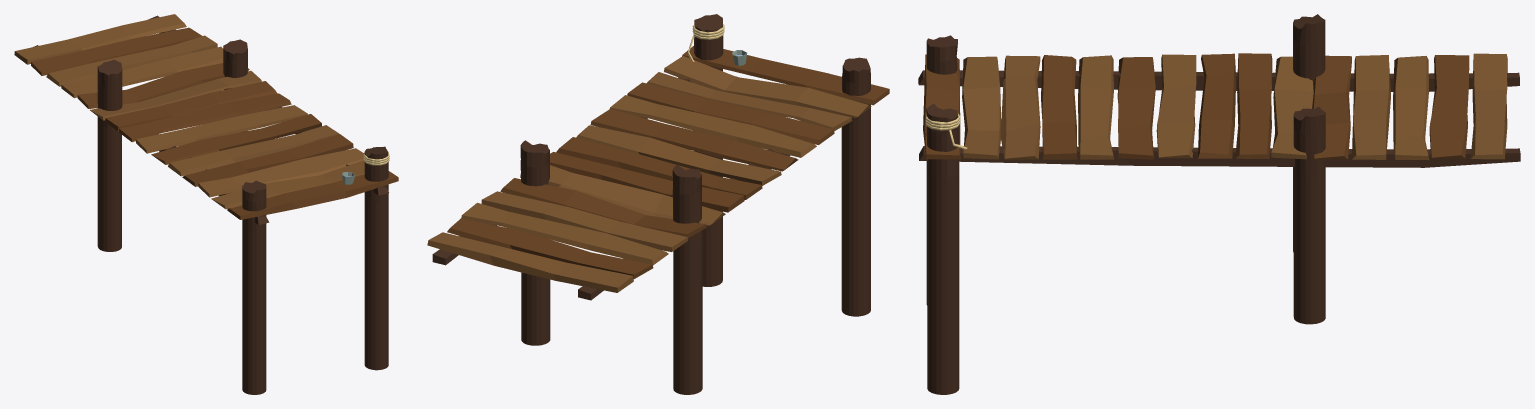
File: dockplain.fbx
3 views of the same model, side by side, from view 1: azimuth 30°, elevation 25°; view 2: azimuth 150°, elevation 25°; view 3: azimuth 270°, elevation 25° (orthographic). The views are drawn at different scales.
Visible parts, largest first — view 1: Cylinder; view 2: Cylinder; view 3: Cylinder.
Part boxes in pixels (left/top/right/bottom): Cylinder: left=14, top=14, right=398, bottom=394; Cylinder: left=427, top=14, right=889, bottom=394; Cylinder: left=918, top=14, right=1520, bottom=394.
Size of the model in its own units: 556 by 743 by 1383.
